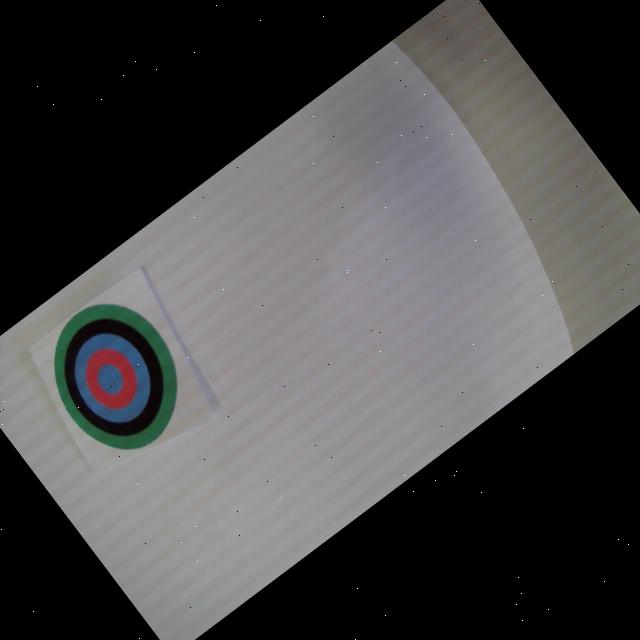COGNITIVE: (23, 279, 210, 472)
